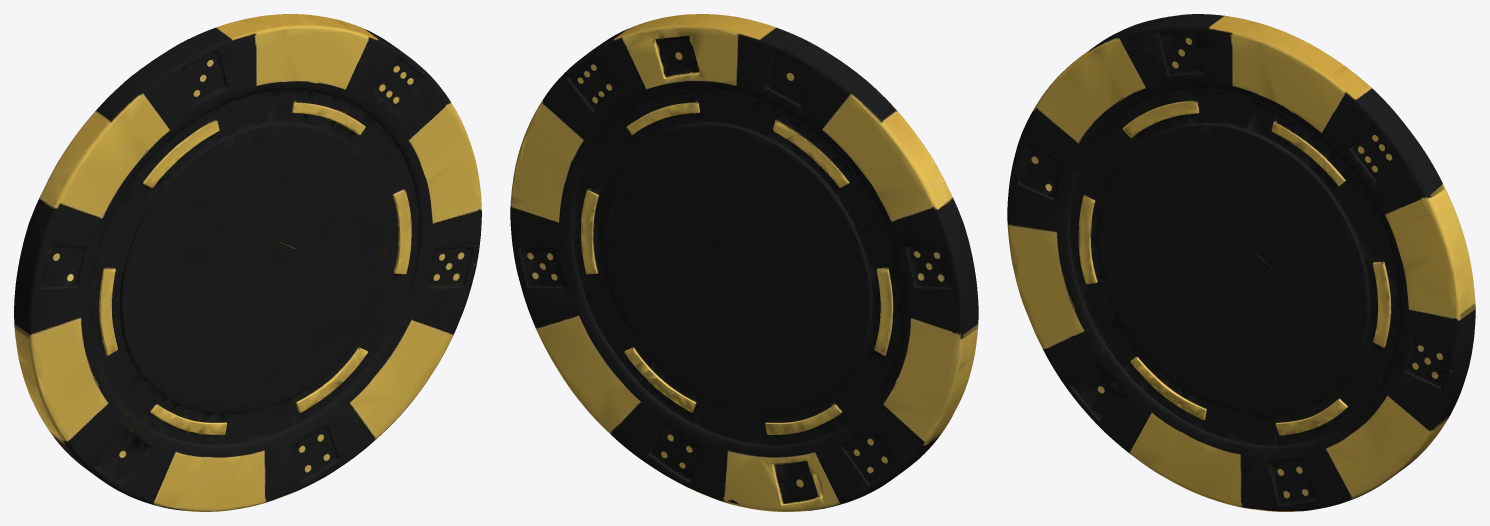
File: chip-desktop-938f4cc59df5.glb
3 renders of one model, left to right at view 1: azimuth 30°, elevation 25°; view 2: azimuth 150°, elevation 25°; view 3: azimuth 330°, elevation 25°, orthographic.
Parts seen in each view (by area): view 1: node_0; view 2: node_0; view 3: node_0.
Boxes of the visible parts, x1=… form: node_0: x1=14, y1=14, x2=481, y2=511; node_0: x1=510, y1=14, x2=978, y2=511; node_0: x1=1007, y1=14, x2=1475, y2=511.
Bounding box in the file's own units: 0.003 × 0.003 × 0.000201.
1 material, 1 textured.
